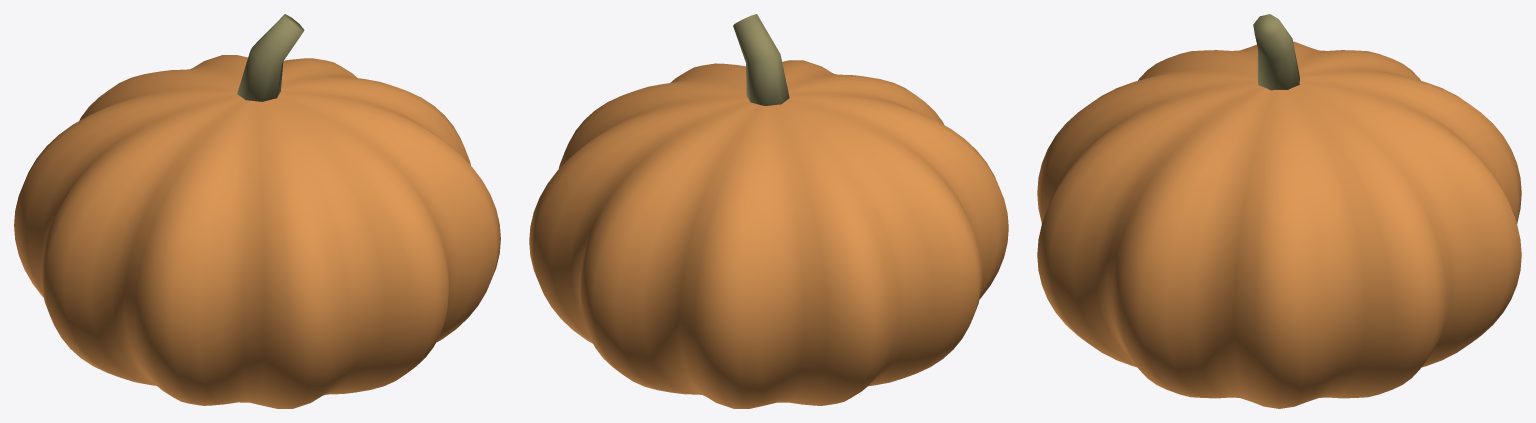
Rendered from pumpkin.glb.
The picture shows the model from 3 angles, left to right: view 1: azimuth 30°, elevation 25°; view 2: azimuth 150°, elevation 25°; view 3: azimuth 270°, elevation 25°; orthographic projection. The views are drawn at different scales.
Visible parts, largest first — view 1: pumpkin__body, pumpkin__stem; view 2: pumpkin__body, pumpkin__stem; view 3: pumpkin__body, pumpkin__stem.
Boxes of the visible parts, left/top/right/bottom form: pumpkin__body: left=14, top=55, right=500, bottom=408; pumpkin__stem: left=237, top=14, right=304, bottom=101; pumpkin__body: left=529, top=60, right=1008, bottom=408; pumpkin__stem: left=733, top=14, right=789, bottom=105; pumpkin__body: left=1037, top=41, right=1521, bottom=408; pumpkin__stem: left=1253, top=14, right=1299, bottom=90.
Bounding box in the file's own units: 0.2782 × 0.2214 × 0.2659.
